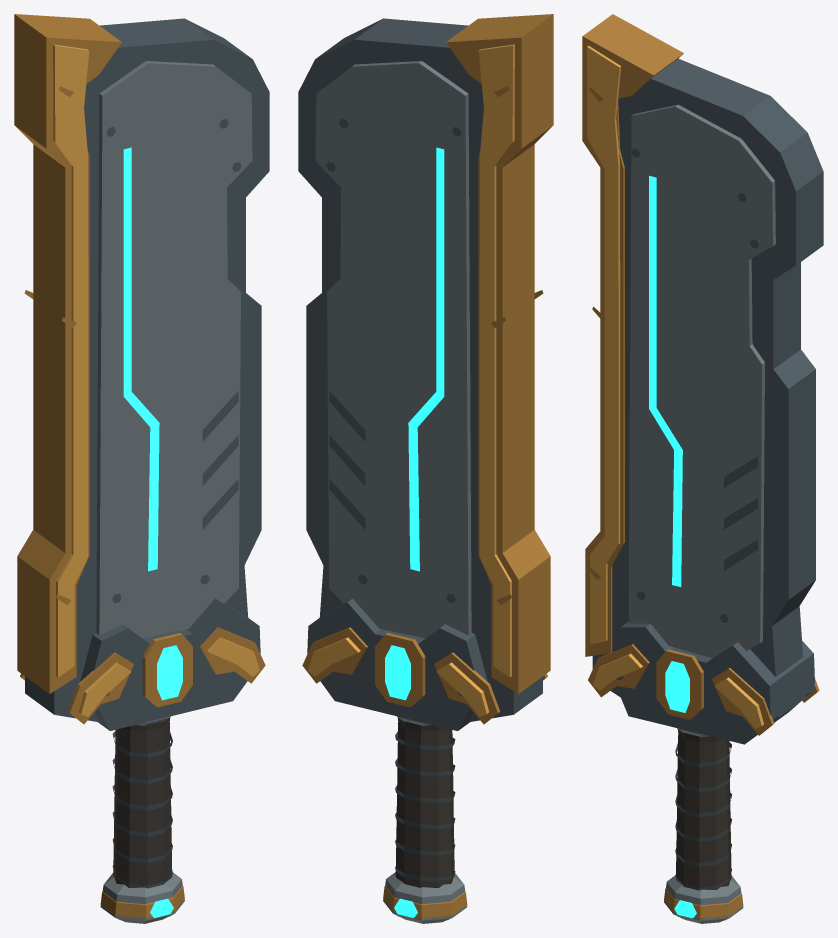
File: wsc-gear-006-titan-cleaver.glb
3 views of the same model, side by side, from view 1: azimuth 30°, elevation 25°; view 2: azimuth 150°, elevation 25°; view 3: azimuth 330°, elevation 25° (orthographic). The views are drawn at different scales.
Parts seen in each view (by area): view 1: WSC-GEAR-006 Titan Cleaver | Grip Pivot; view 2: WSC-GEAR-006 Titan Cleaver | Grip Pivot; view 3: WSC-GEAR-006 Titan Cleaver | Grip Pivot.
Boxes of the visible parts, x1,y1,x2,y2 form: WSC-GEAR-006 Titan Cleaver | Grip Pivot: (14,14,269,923); WSC-GEAR-006 Titan Cleaver | Grip Pivot: (298,14,553,923); WSC-GEAR-006 Titan Cleaver | Grip Pivot: (582,14,823,923).
Bounding box in the file's own units: 0.508 × 1.98 × 0.218.
